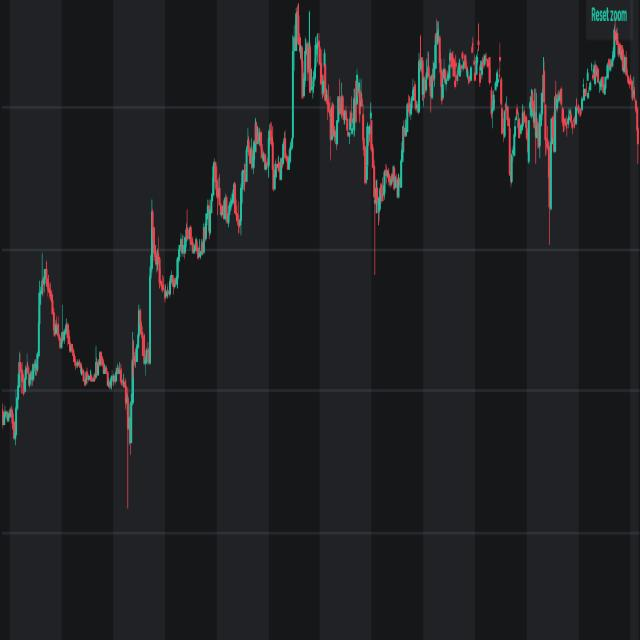Resistance-breakout: (36, 187, 161, 446), (234, 0, 337, 242)
